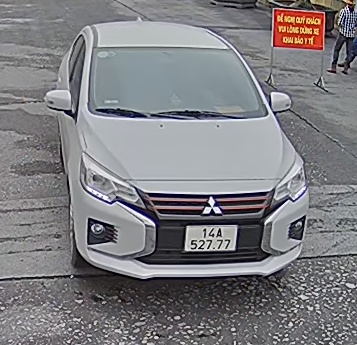vehicle plate: (182, 221, 238, 254)
